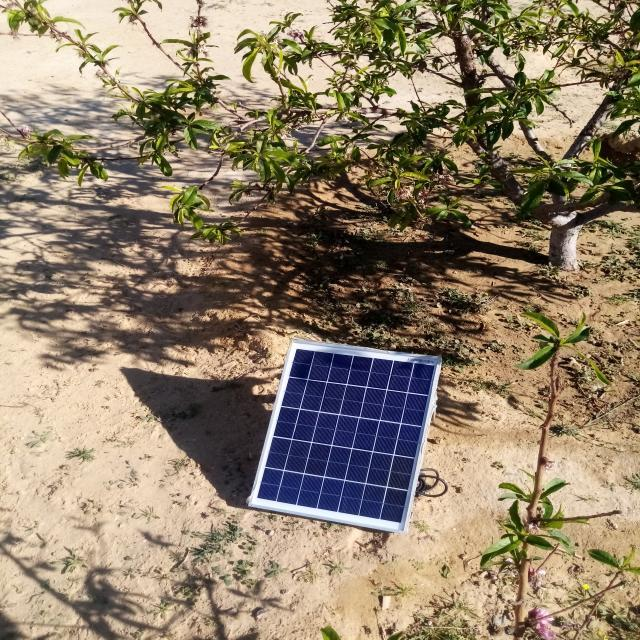no faulty: (247, 340, 441, 533)
